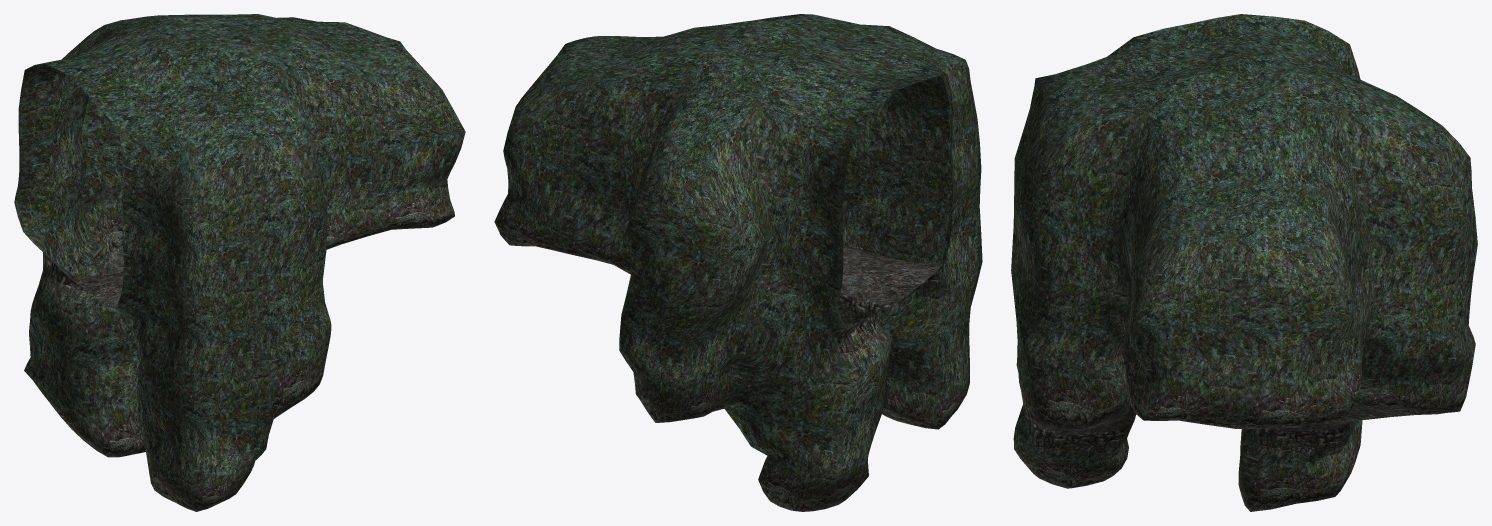
The model's file is thm_all_cave_s02_damprock_r9_mesh_r9.fbx.
3 views of the same model, side by side, from view 1: azimuth 30°, elevation 25°; view 2: azimuth 150°, elevation 25°; view 3: azimuth 270°, elevation 25° (orthographic). The views are drawn at different scales.
Parts seen in each view (by area): view 1: mesh_node; view 2: mesh_node; view 3: mesh_node.
Boxes of the visible parts, x1=… form: mesh_node: x1=14, y1=14, x2=465, y2=511; mesh_node: x1=494, y1=14, x2=982, y2=511; mesh_node: x1=1011, y1=14, x2=1477, y2=511.
Bounding box in the file's own units: 41.15 × 45.08 × 40.79.
